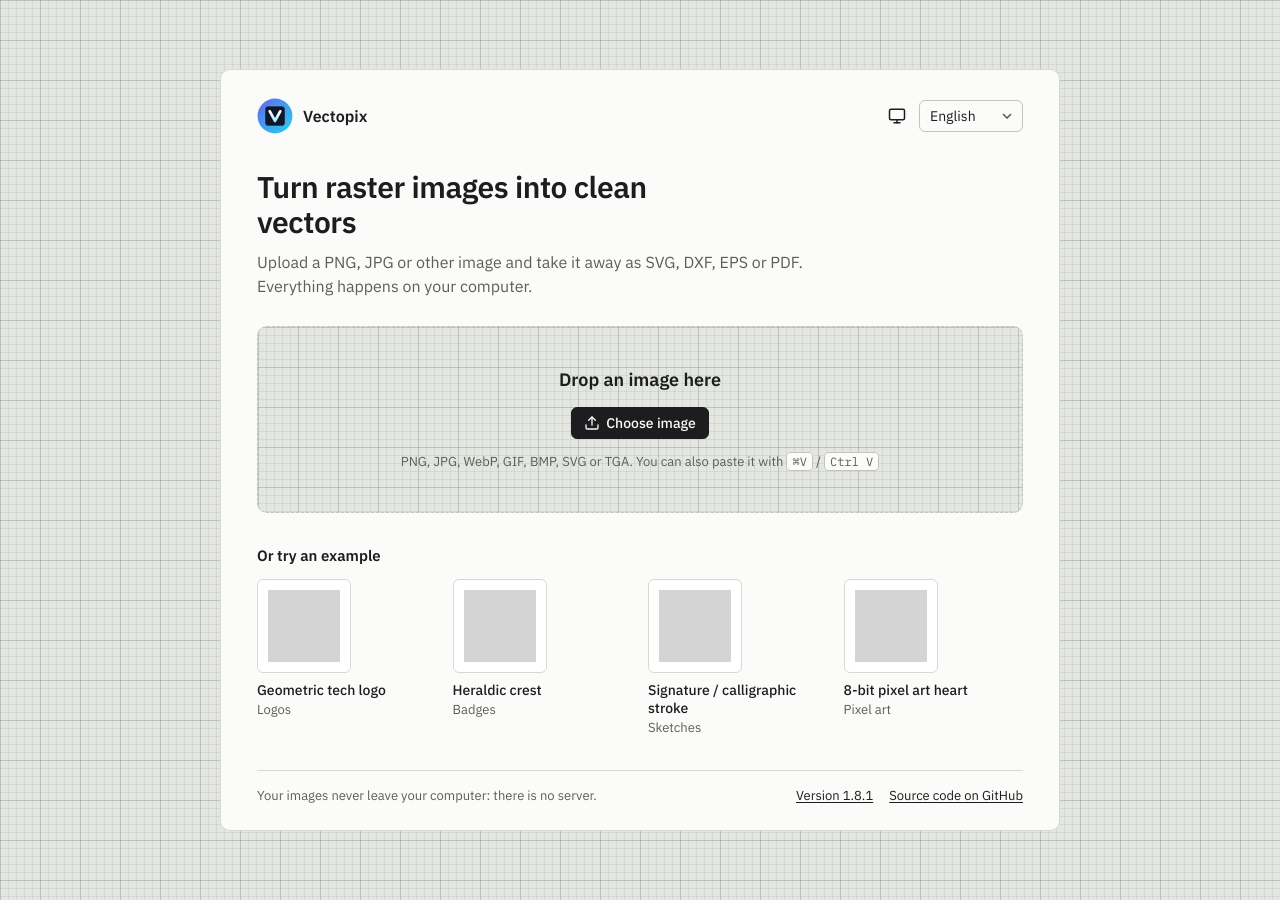
App › reports an engine failure
This screenshot has width=1280, height=900.
Click the button "Heraldic crest Badges": (542, 658) [452, 578, 632, 738]
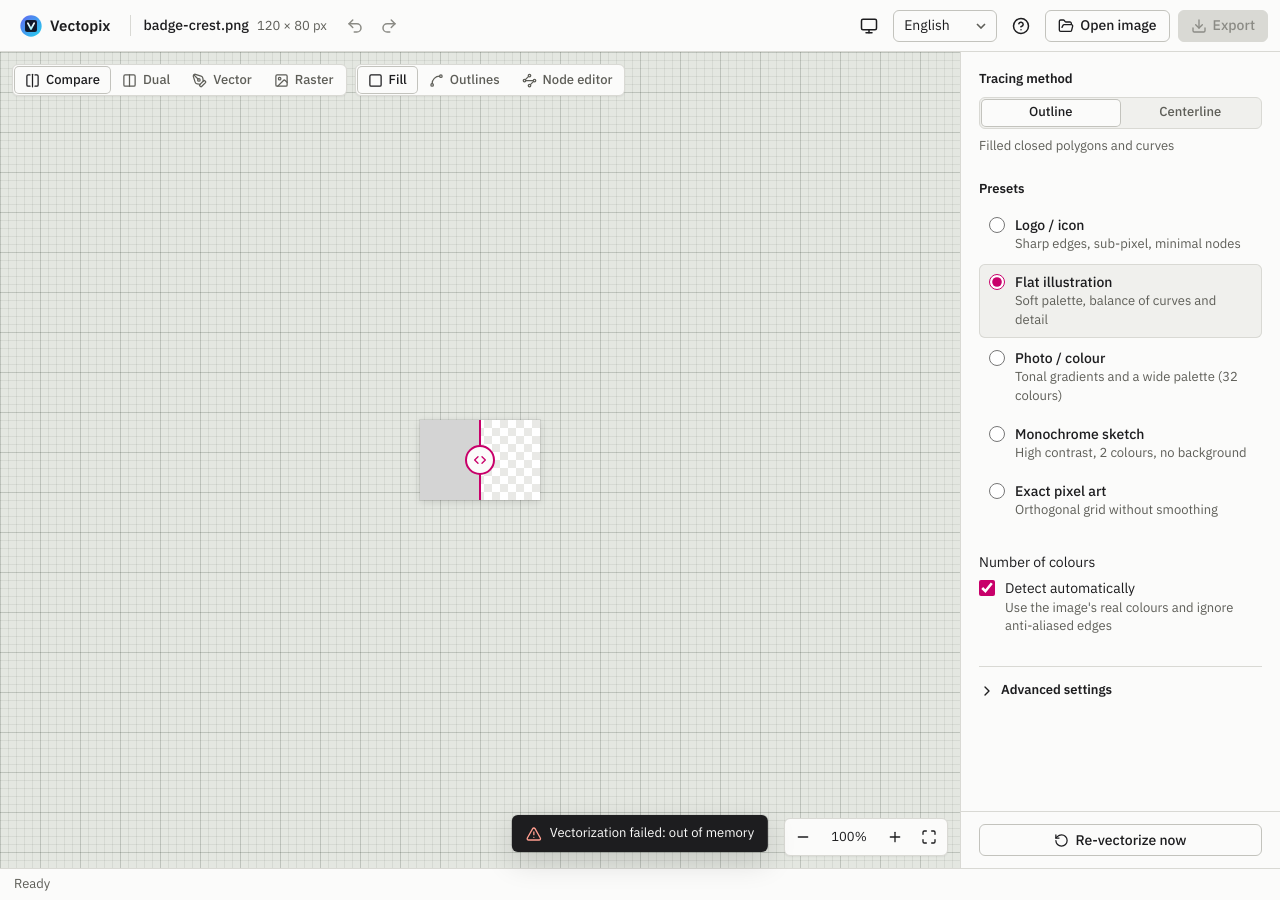
Check: the text "Vectorization failed: out of memory" is shown, box [550, 824, 754, 843]
